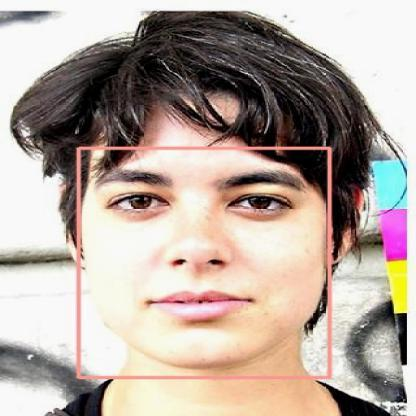without_mask: (78, 148, 329, 377)
